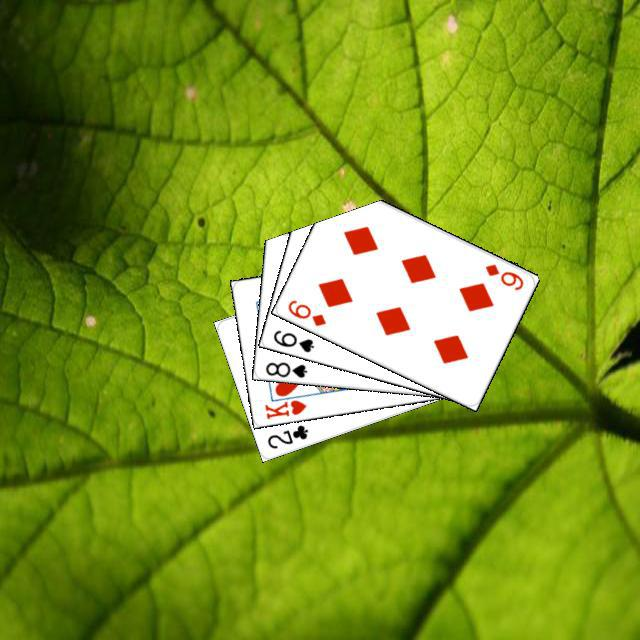2c: (262, 420, 310, 450)
6d: (283, 295, 328, 328), (480, 259, 525, 292)
6s: (268, 325, 315, 354)
8s: (261, 357, 309, 379)
Kh: (260, 389, 310, 421)
